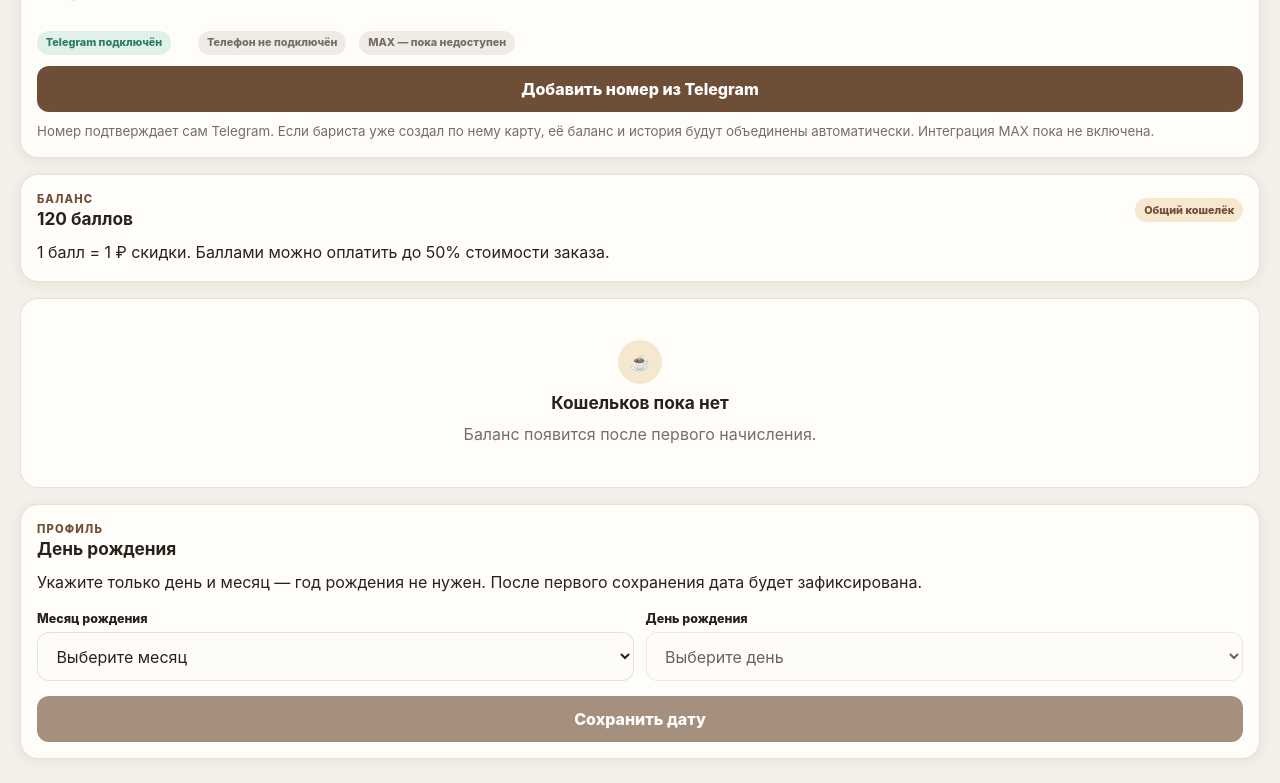
Test: Loyalty V2 frontend › saves February 29 without a year and renders the locked offer returned by backend
(page scrolled)
Step 1. Select "Февраль" in the dropdown labelled "Месяц рождения" → {"x": 336, "y": 657}, box [37,632,634,681]
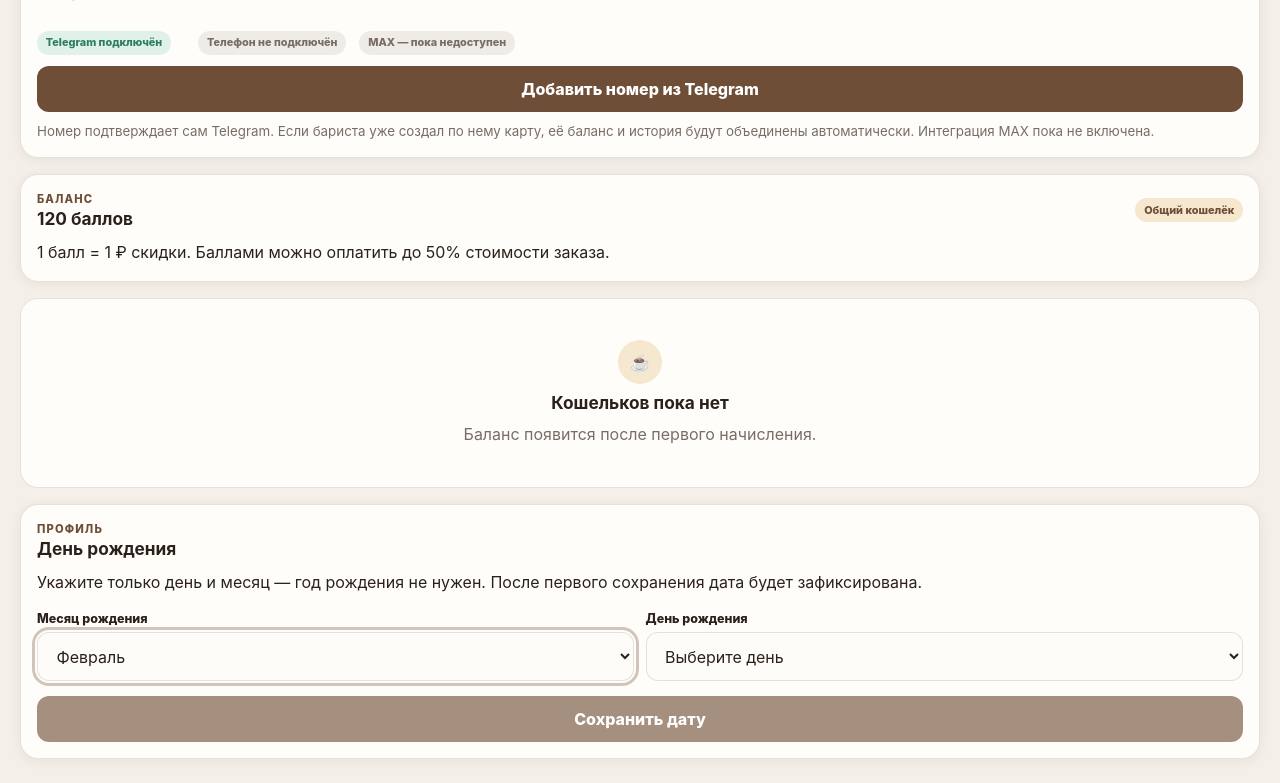
Check: the text "Общий кошелёк" is shown, box [1135,198,1243,222]
Step 2. Select "29" in the dropdown labelled "День рождения" → {"x": 944, "y": 657}, box [646,632,1243,681]
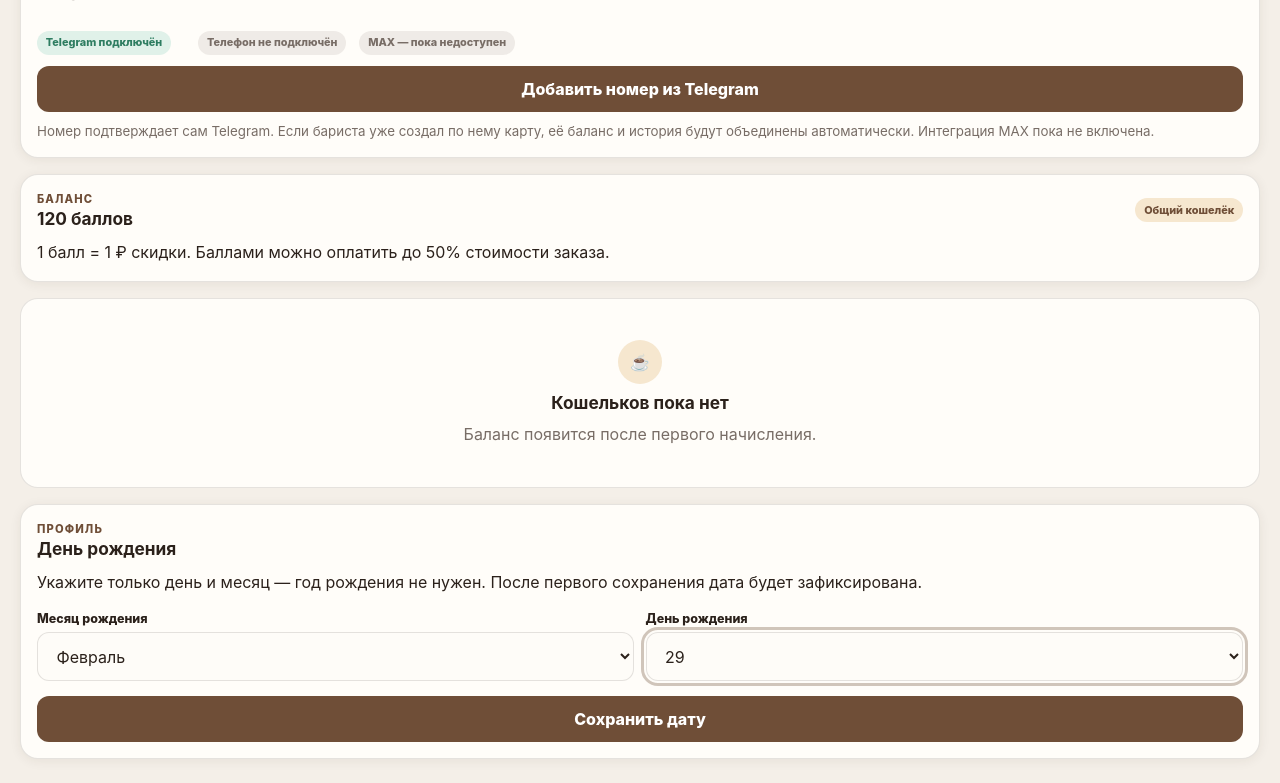
Step 3. Click the button "Сохранить дату" → {"x": 640, "y": 719}, box [37,696,1243,742]
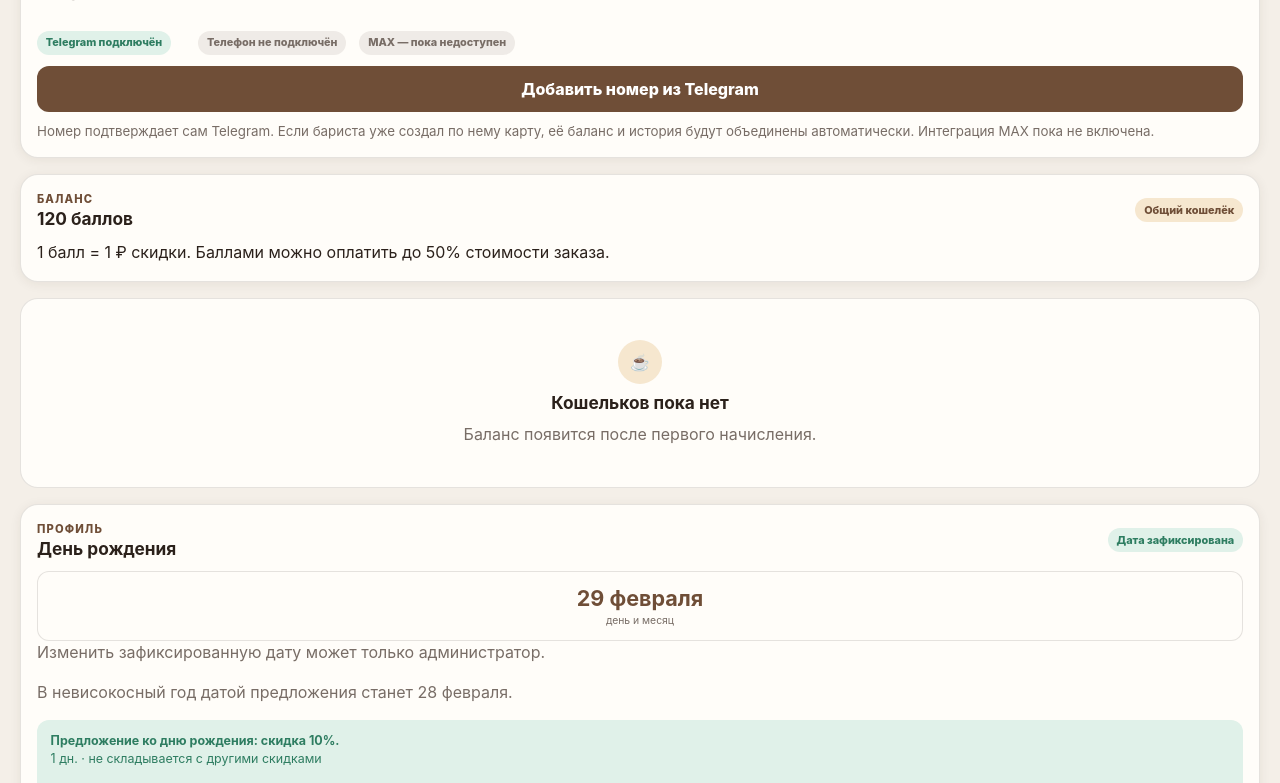
Check: the text "Дата зафиксирована" is shown, box [1108,528,1243,552]
Check: the text "29 февраля" is shown, box [577,585,703,611]
Check: the text "Предложение ко дню рождения: скидка 10%." is shown, box [51,733,340,748]
